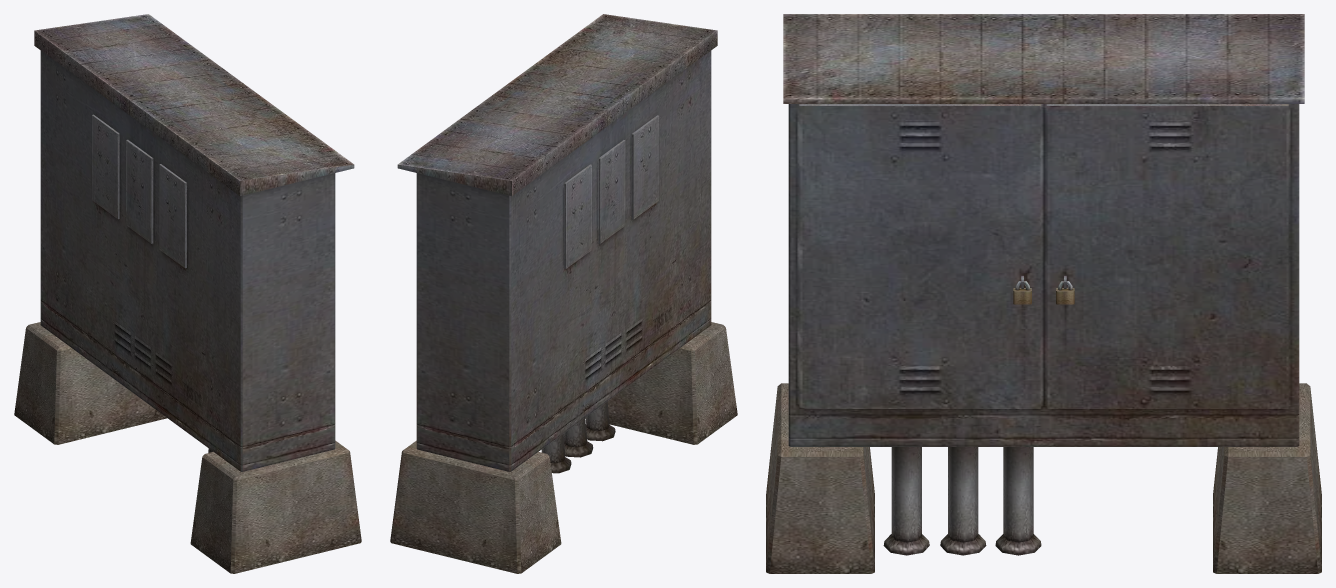
The model's file is de_train_signalbox_01.glb.
3 renders of one model, left to right at view 1: azimuth 30°, elevation 25°; view 2: azimuth 150°, elevation 25°; view 3: azimuth 270°, elevation 25°, orthographic. The views are drawn at different scales.
Visible parts, largest first — view 1: 0_de_train_signalbox; view 2: 0_de_train_signalbox; view 3: 0_de_train_signalbox.
Boxes of the visible parts, left/top/right/bottom form: 0_de_train_signalbox: left=14, top=14, right=361, bottom=573; 0_de_train_signalbox: left=390, top=14, right=737, bottom=573; 0_de_train_signalbox: left=766, top=14, right=1321, bottom=573.
Bounding box in the file's own units: 0.9168 × 2.57 × 2.65.
Materials: 1 (1 with a texture image).
